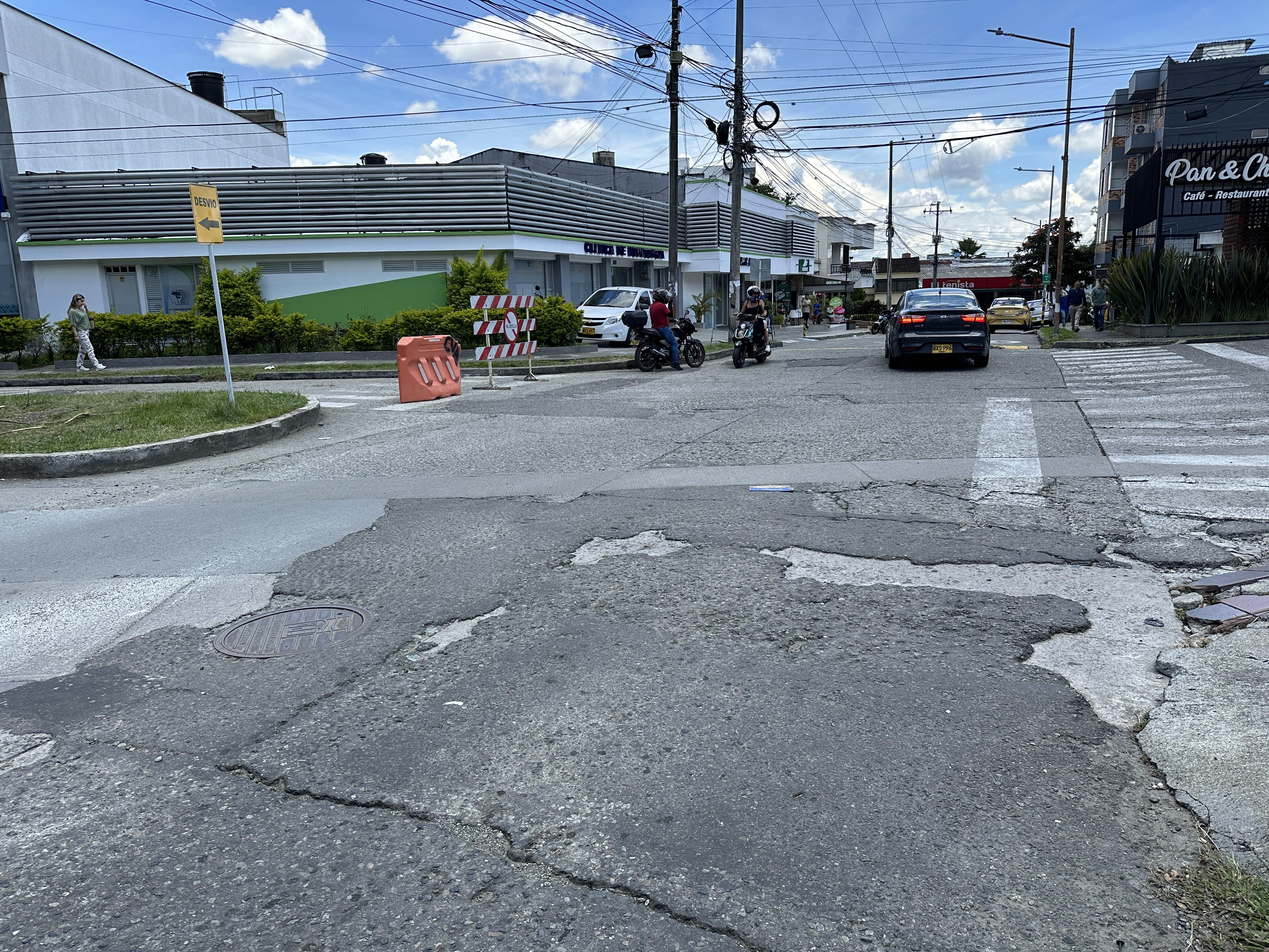bache: (757, 541, 1235, 730), (1147, 513, 1269, 570), (406, 605, 507, 662), (570, 529, 693, 565), (210, 590, 310, 633)
grieta: (218, 765, 764, 952), (923, 476, 1095, 536), (1086, 476, 1147, 533), (804, 481, 894, 514), (1166, 473, 1226, 484), (889, 480, 921, 486), (1253, 485, 1269, 487)
registro: (216, 605, 371, 658)
